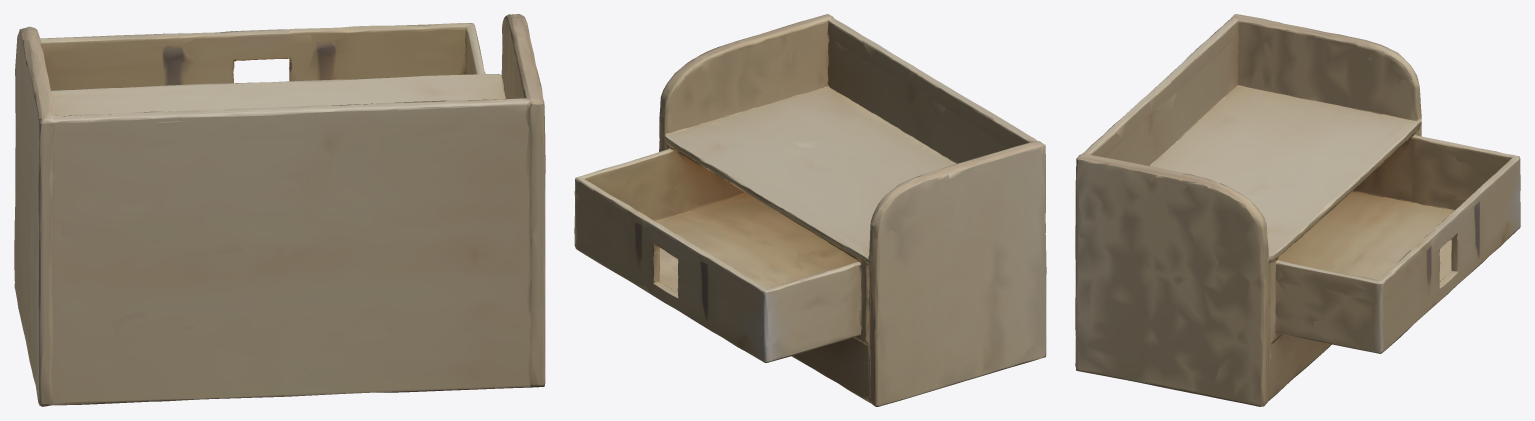
Rendered from 0011_mask_012_wooden_organizer.glb.
The picture shows the model from 3 angles, left to right: view 1: azimuth 30°, elevation 25°; view 2: azimuth 150°, elevation 25°; view 3: azimuth 270°, elevation 25°; orthographic projection. The views are drawn at different scales.
Visible parts, largest first — view 1: mask_012_object; view 2: mask_012_object; view 3: mask_012_object.
Boxes of the visible parts, box(x1,y1,x2,y2) form: mask_012_object: box(14, 14, 545, 406); mask_012_object: box(574, 14, 1046, 406); mask_012_object: box(1075, 14, 1520, 406).
Bounding box in the file's own units: 0.6353 × 0.3288 × 0.6161.
